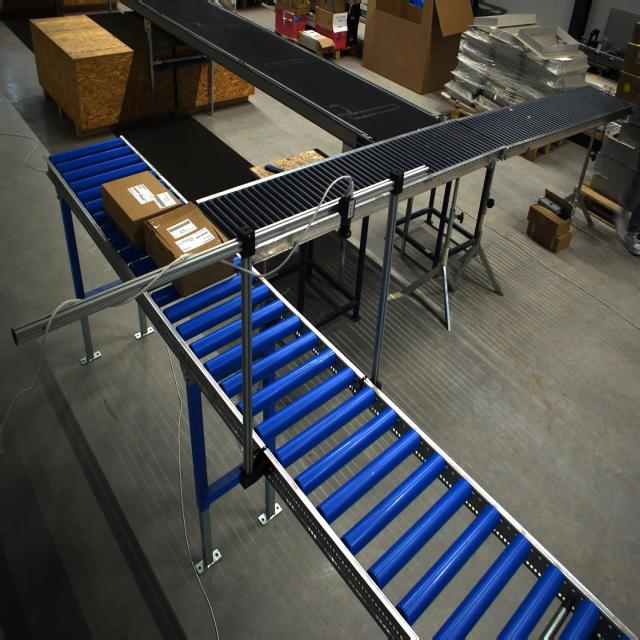box: (143, 202, 234, 294), (101, 172, 183, 252)
